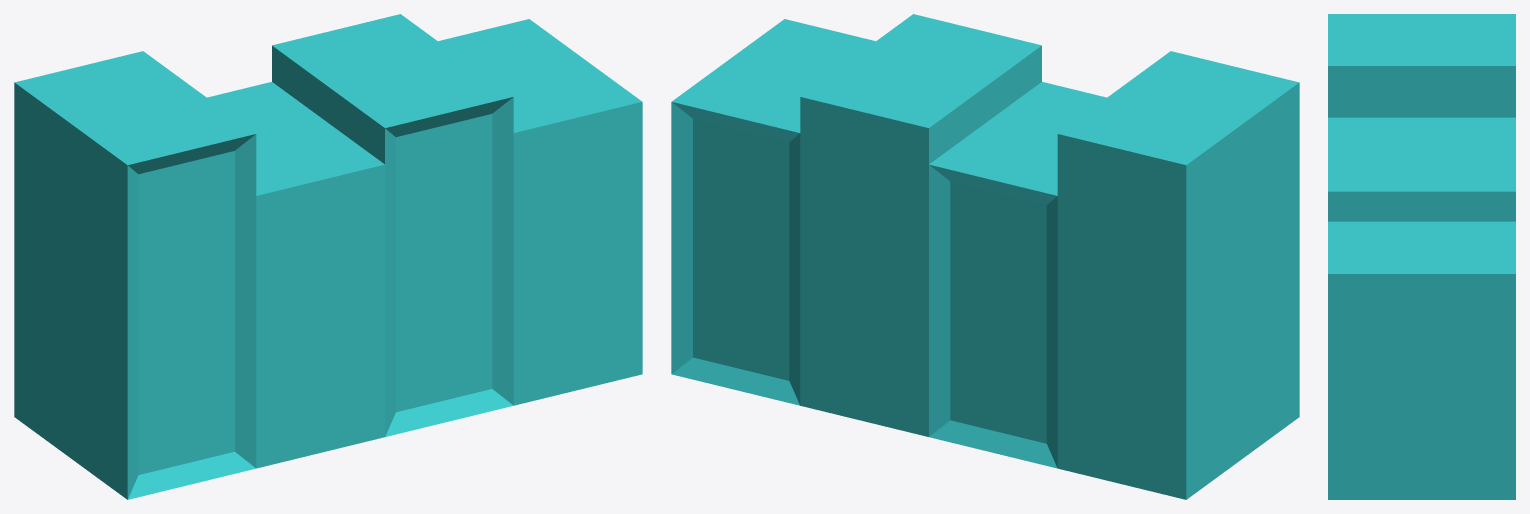
File: News_Stand.FBX
3 renders of one model, left to right at view 1: azimuth 30°, elevation 25°; view 2: azimuth 150°, elevation 25°; view 3: azimuth 270°, elevation 25°, orthographic. The views are drawn at different scales.
Visible parts, largest first — view 1: News_Stand; view 2: News_Stand; view 3: News_Stand.
Part boxes in pixels (box(x1,y1,x2,y2)): News_Stand: box(14, 14, 642, 499); News_Stand: box(671, 14, 1299, 499); News_Stand: box(1328, 14, 1515, 499).
Size of the model in its own units: 296 by 113 by 184.
